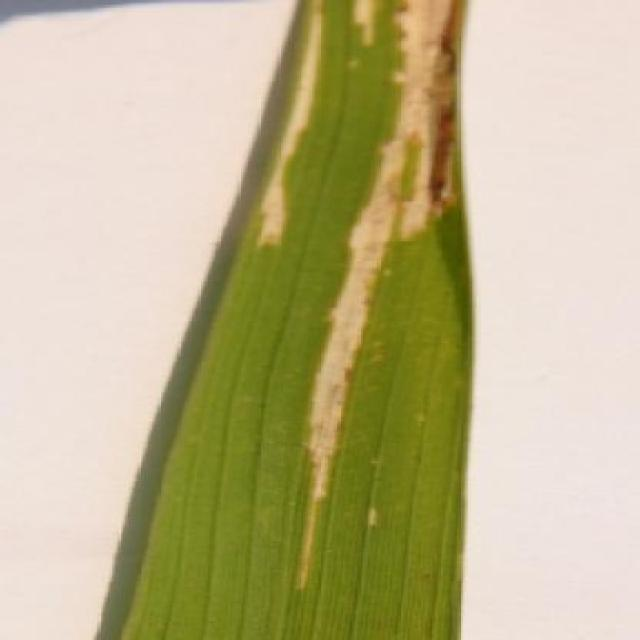Brown_Spot: (122, 0, 480, 640)
